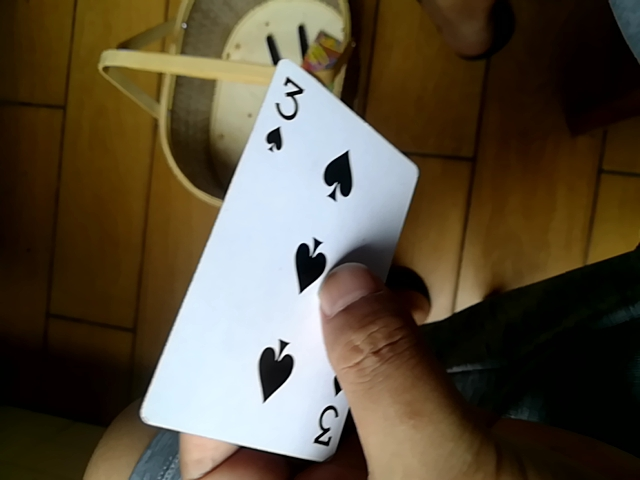ht 3: (139, 55, 413, 466)
